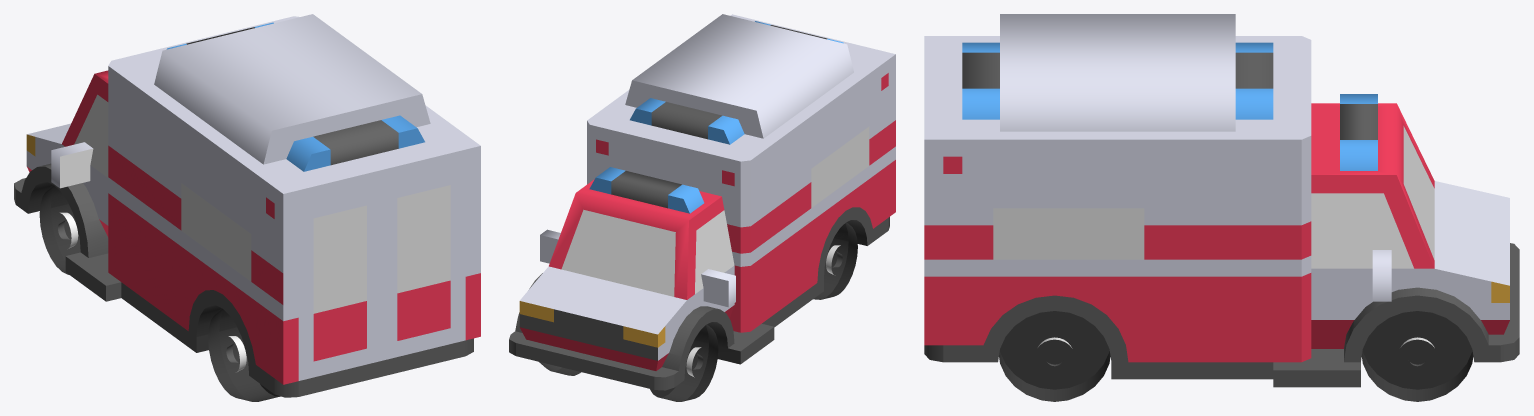
Rendered from ambulance-5.glb.
3 renders of one model, left to right at view 1: azimuth 30°, elevation 25°; view 2: azimuth 150°, elevation 25°; view 3: azimuth 270°, elevation 25°, orthographic. The views are drawn at different scales.
Visible parts, largest first — view 1: body, wheel_backLeft, wheel_frontLeft; view 2: body, wheel_frontLeft, wheel_backLeft; view 3: body, wheel_frontRight, wheel_backRight.
Boxes of the visible parts, x1,y1,x2,y2 form: body: (14, 14, 480, 397); wheel_backLeft: (208, 308, 280, 401); wheel_frontLeft: (39, 185, 80, 274); body: (509, 14, 895, 390); wheel_frontLeft: (650, 324, 718, 401); wheel_backLeft: (813, 222, 857, 299); body: (924, 14, 1519, 387); wheel_frontRight: (1361, 311, 1473, 401); wheel_backRight: (999, 311, 1110, 401).
Size of the model in its own units: 1.5 by 1.8 by 3.15.
